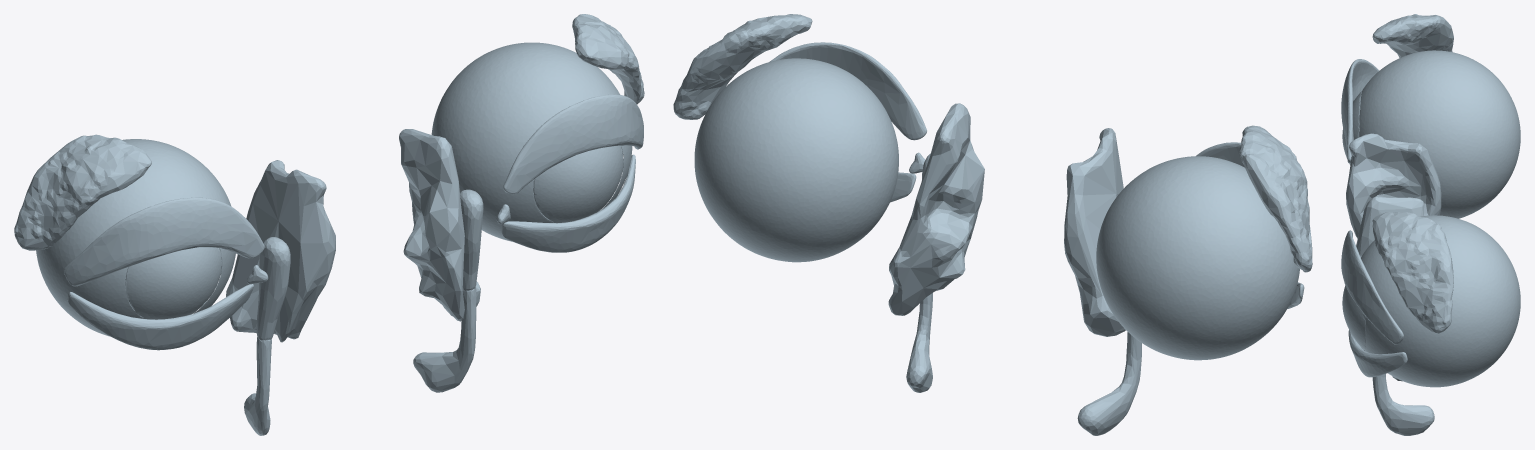
File: sensory.glb
3 renders of one model, left to right at view 1: azimuth 30°, elevation 25°; view 2: azimuth 150°, elevation 25°; view 3: azimuth 270°, elevation 25°, orthographic. The views are drawn at different scales.
Parts seen in each view (by area): view 1: FJ1317, FJ1368, FJ3371, FJ3265, FJ1375, FJ1350, FJ1324, FJ1340, FJ1289, FJ1379, FJ1328, FJ1299 (+4 smaller); view 2: FJ1317, FJ1368, FJ3265, FJ3371, FJ1350, FJ1299, FJ1324, FJ1353, FJ1302, FJ1375; view 3: FJ1368, FJ1317, FJ1299, FJ3371, FJ1350, FJ1324, FJ1302, FJ3265, FJ1375, FJ1328, FJ1289, FJ1340.
Boxes of the visible parts, x1=… form: FJ1317: x1=431, y1=42, x2=632, y2=241; FJ1368: x1=36, y1=139, x2=235, y2=336; FJ3371: x1=226, y1=160, x2=335, y2=342; FJ3265: x1=399, y1=129, x2=480, y2=321; FJ1375: x1=64, y1=197, x2=264, y2=286; FJ1350: x1=14, y1=134, x2=151, y2=250; FJ1324: x1=503, y1=94, x2=643, y2=193; FJ1340: x1=125, y1=247, x2=221, y2=319; FJ1289: x1=533, y1=145, x2=623, y2=223; FJ1379: x1=67, y1=284, x2=253, y2=350; FJ1328: x1=501, y1=154, x2=635, y2=252; FJ1299: x1=572, y1=14, x2=644, y2=104; FJ1317: x1=694, y1=58, x2=898, y2=262; FJ1368: x1=1096, y1=156, x2=1299, y2=360; FJ3265: x1=888, y1=103, x2=984, y2=315; FJ3371: x1=1064, y1=128, x2=1125, y2=336; FJ1350: x1=1239, y1=125, x2=1312, y2=270; FJ1299: x1=673, y1=14, x2=812, y2=119; FJ1324: x1=769, y1=42, x2=926, y2=140; FJ1353: x1=1077, y1=332, x2=1141, y2=435; FJ1302: x1=906, y1=293, x2=932, y2=392; FJ1375: x1=1196, y1=142, x2=1312, y2=272; FJ1368: x1=1359, y1=50, x2=1520, y2=218; FJ1317: x1=1361, y1=215, x2=1520, y2=387; FJ1299: x1=1372, y1=212, x2=1453, y2=333; FJ3371: x1=1346, y1=133, x2=1441, y2=238; FJ1350: x1=1372, y1=14, x2=1453, y2=57; FJ1324: x1=1341, y1=230, x2=1403, y2=344; FJ1302: x1=1372, y1=374, x2=1434, y2=435; FJ3265: x1=1356, y1=196, x2=1424, y2=381; FJ1375: x1=1341, y1=59, x2=1379, y2=163; FJ1328: x1=1348, y1=330, x2=1407, y2=377; FJ1289: x1=1342, y1=285, x2=1365, y2=350; FJ1340: x1=1342, y1=91, x2=1361, y2=164.
Bounding box in the file's own units: 0.0943 × 0.0477 × 0.0274.
